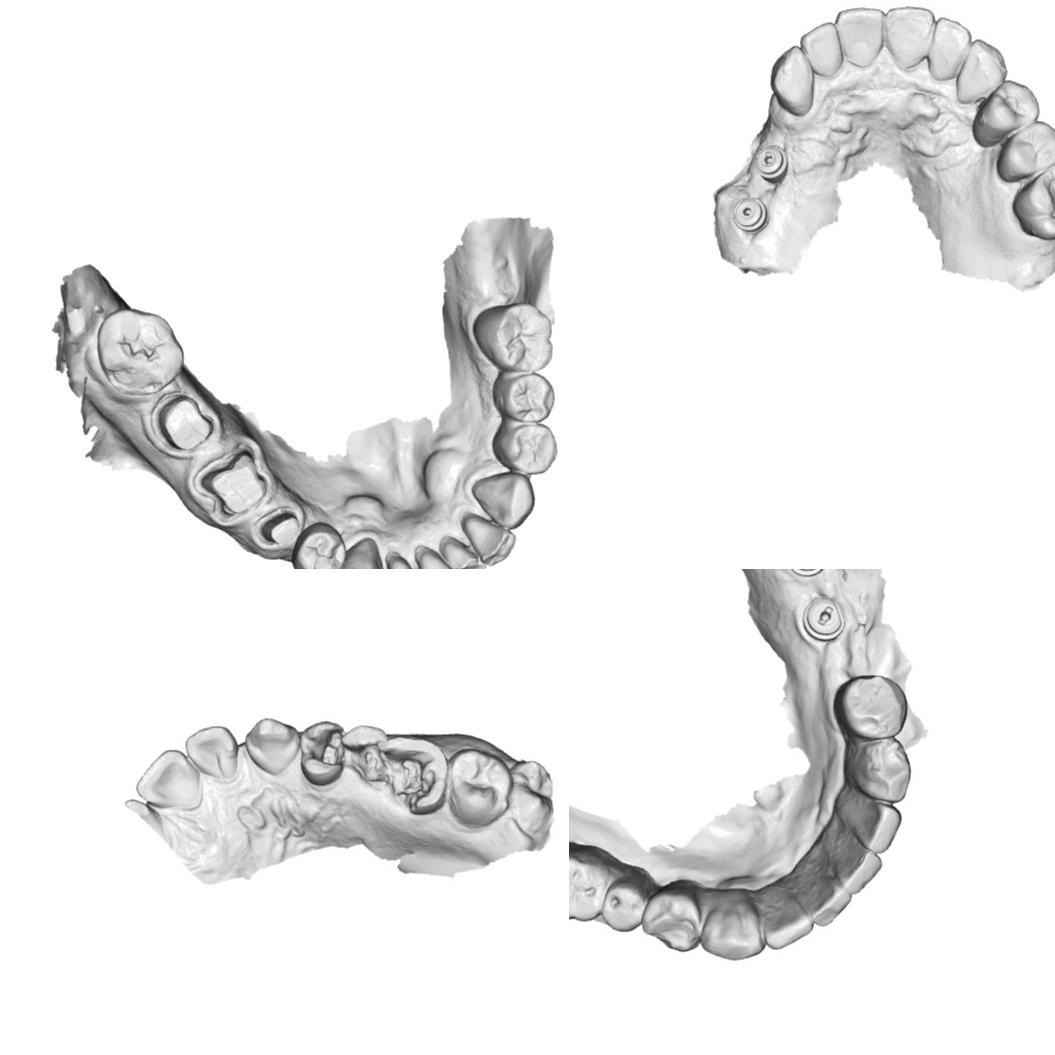canine: (698, 892, 766, 964), (850, 739, 914, 803), (955, 38, 1008, 106), (468, 471, 534, 525), (242, 716, 300, 776), (769, 44, 815, 117), (330, 535, 391, 569)
crown: (205, 452, 267, 516), (157, 390, 215, 451), (257, 506, 299, 545)
implant: (730, 196, 769, 234)
implant_minus: (801, 599, 847, 640), (754, 144, 788, 185)
incisor: (134, 748, 204, 812), (884, 5, 936, 70), (184, 723, 238, 783), (835, 5, 886, 68), (926, 16, 972, 81), (464, 514, 517, 568), (854, 796, 899, 856), (762, 900, 816, 950), (799, 21, 844, 78), (840, 841, 883, 895), (806, 878, 851, 928), (439, 535, 486, 569), (415, 545, 466, 569), (389, 551, 425, 569)
molar: (95, 307, 189, 397), (472, 301, 551, 372), (446, 747, 512, 830), (1011, 160, 1055, 241), (508, 757, 554, 834), (569, 850, 608, 922)
premolar: (832, 672, 911, 743), (971, 78, 1040, 148), (642, 882, 704, 954), (995, 120, 1055, 183), (489, 425, 562, 472), (600, 872, 653, 936), (493, 371, 557, 422), (298, 718, 346, 786), (292, 520, 345, 569)
